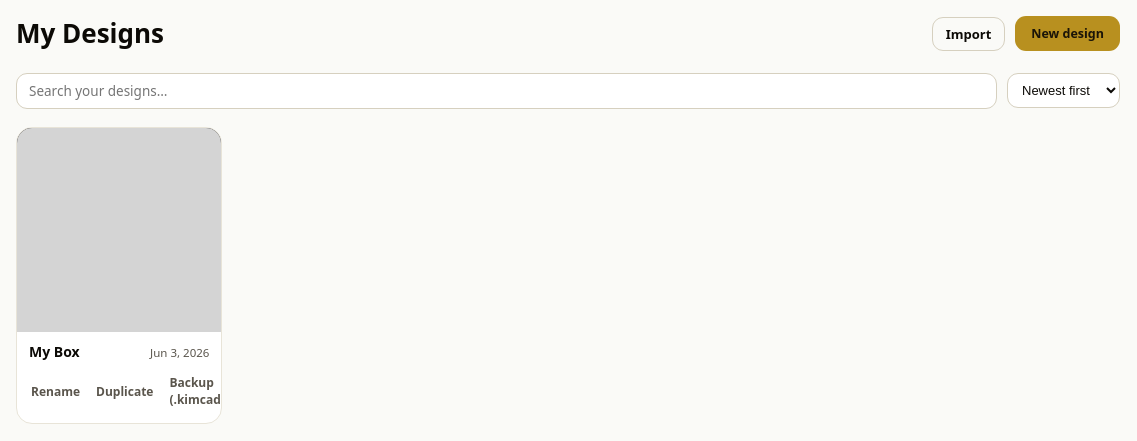
MyDesigns › shows a no-matches message when the search excludes everything
The width and height of the screenshot is (1137, 441).
Expected: the button "My Box" is shown, 29,342 -> 80,361
Type "zzz-no-such-design" into the search field labelled "Search your designs" at (506,91), box 16,73 -> 997,109
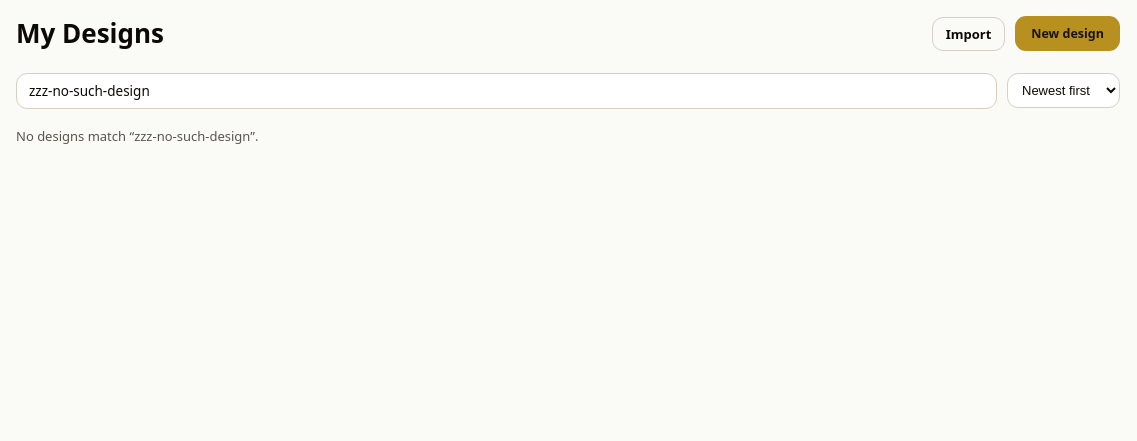
Now the button "My Box" is gone
Now the text "No designs match “zzz-no-such-design”." is shown, box 16,127 -> 258,145
